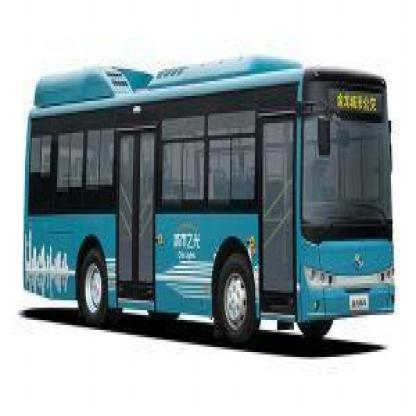Bus: (22, 49, 398, 360)
